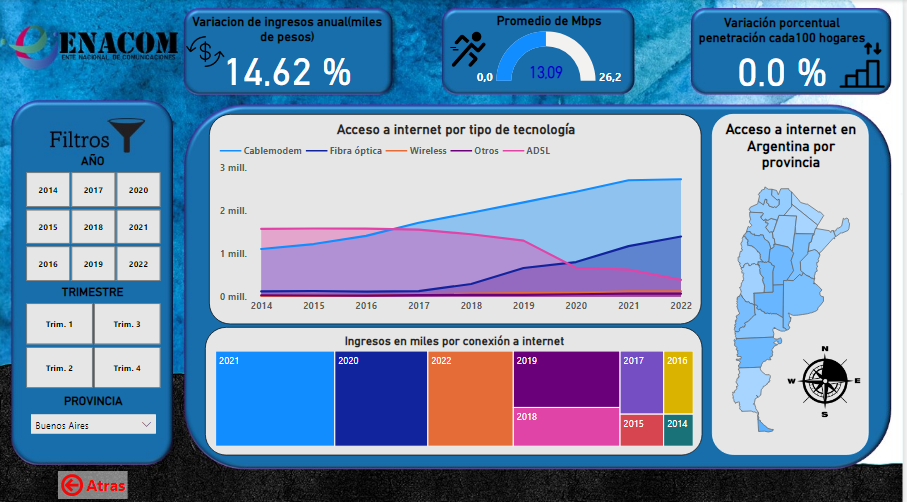

What the dashboard file says about the page in this screenshot:
{"tool":"powerbi","page":{"name":"Dasboard","canvas":[1280,720],"ordinal":3},"visuals":[{"type":"gauge","title":"Promedio de Mbps","fields":{"Y":["Avg(Velocidad_media_provincia.Mbps (Media de bajada))"]},"box":[637.8,19,284,106.3],"z":0},{"type":"areaChart","title":"Acceso a internet por tipo de tecnología","fields":{"Category":["Calendar.Date.Variación.Jerarquía de fechas.Año","Calendar.Date.Variación.Jerarquía de fechas.Trimestre"],"Y":["Max(Acceso_internet_tecnologia_provincia.Cablemodem)","Max(Acceso_internet_tecnologia_provincia.Fibra óptica)","Max(Acceso_internet_tecnologia_provincia.Wireless)","Max(Acceso_internet_tecnologia_provincia.Otros)","Max(Acceso_internet_tecnologia_provincia.ADSL)"]},"box":[298.1,162,661.5,298.1],"z":1000},{"type":"shapeMap","title":"Acceso a internet en Argentina por provincia","fields":{"Category":["Ubicacion.Provincia"],"Value":["Max(Ubicacion.Accesos por cada 100 hogares)"]},"box":[970.9,162,261,490.5],"z":2000},{"type":"slicer","title":"AÑO","fields":{"Values":["Calendar.Date.Variación.Jerarquía de fechas.Año"]},"box":[13.3,218.3,240,186.7],"z":3000},{"type":"card","title":"Variación porcentual penetración cada100 hogares","fields":{"Values":["Medidas.Variacion_porcentual_trimestre"]},"box":[979.4,21.3,260.8,106.3],"z":4000},{"type":"slicer","title":"TRIMESTRE","fields":{"Values":["Calendar.Date.Variación.Jerarquía de fechas.Trimestre"]},"box":[13.3,403.3,240,153.3],"z":5000},{"type":"slicer","title":"PROVINCIA","fields":{"Values":["Penetracion_acceso_100_hogares.Provincia"]},"box":[35,558.3,196.7,63.3],"z":6000},{"type":"treemap","title":"Ingresos en miles por conexión a internet","fields":{"Group":["Calendar.Date.Variación.Jerarquía de fechas.Trimestre","Calendar.Date.Variación.Jerarquía de fechas.Año"],"Values":["Sum(Ingreso_trimestre_miles.Ingresos (miles de pesos))"]},"box":[298.1,466.9,661.5,181.1],"z":7000},{"type":"actionButton","box":[83.1,667.4,99.4,40],"z":8000},{"type":"image","box":[616.5,39.7,96.4,59.5],"z":9000},{"type":"image","box":[1166.5,55.3,113.4,73.7],"z":10000},{"type":"image","box":[1109.2,487.1,113.6,109.1],"z":11000},{"type":"card","title":"Variacion de ingresos anual(miles de pesos)","fields":{"Values":["Acceso_banda_provincia.Variacion de ingresos anual(miles de pesos)"]},"box":[258.3,20,301.1,107],"z":12000},{"type":"image","box":[235.5,41.4,112.7,64.2],"z":13000}]}

Visuals, with their boxes in screenshot pixels (x1, y1, x2, y2), scaled from the page's 1280x720 canvas onto the 907x502 screenshot:
"Promedio de Mbps" gauge: 452,13,653,87
"Acceso a internet por tipo de tecnología" areaChart: 211,113,680,321
"Acceso a internet en Argentina por provincia" shapeMap: 688,113,873,455
"AÑO" slicer: 9,152,179,282
"Variación porcentual penetración cada100 hogares" card: 694,15,879,89
"TRIMESTRE" slicer: 9,281,179,388
"PROVINCIA" slicer: 25,389,164,433
"Ingresos en miles por conexión a internet" treemap: 211,326,680,452
actionButton: 59,465,129,493
image: 437,28,505,69
image: 827,39,906,90
image: 786,340,866,416
"Variacion de ingresos anual(miles de pesos)" card: 183,14,396,89
image: 167,29,247,74
